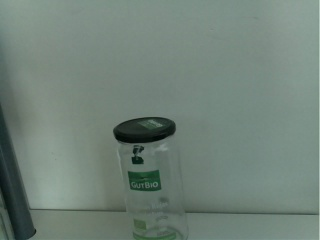pote cristal: (112, 116, 190, 240)
